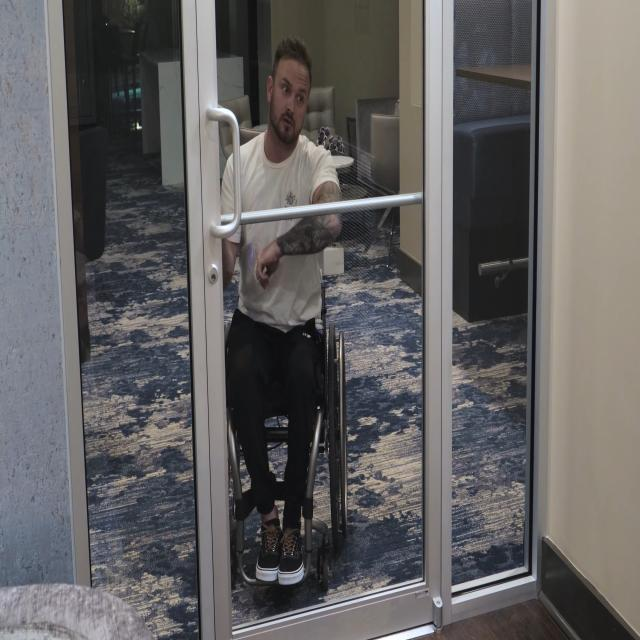wheelchairs: (211, 246, 355, 592)
